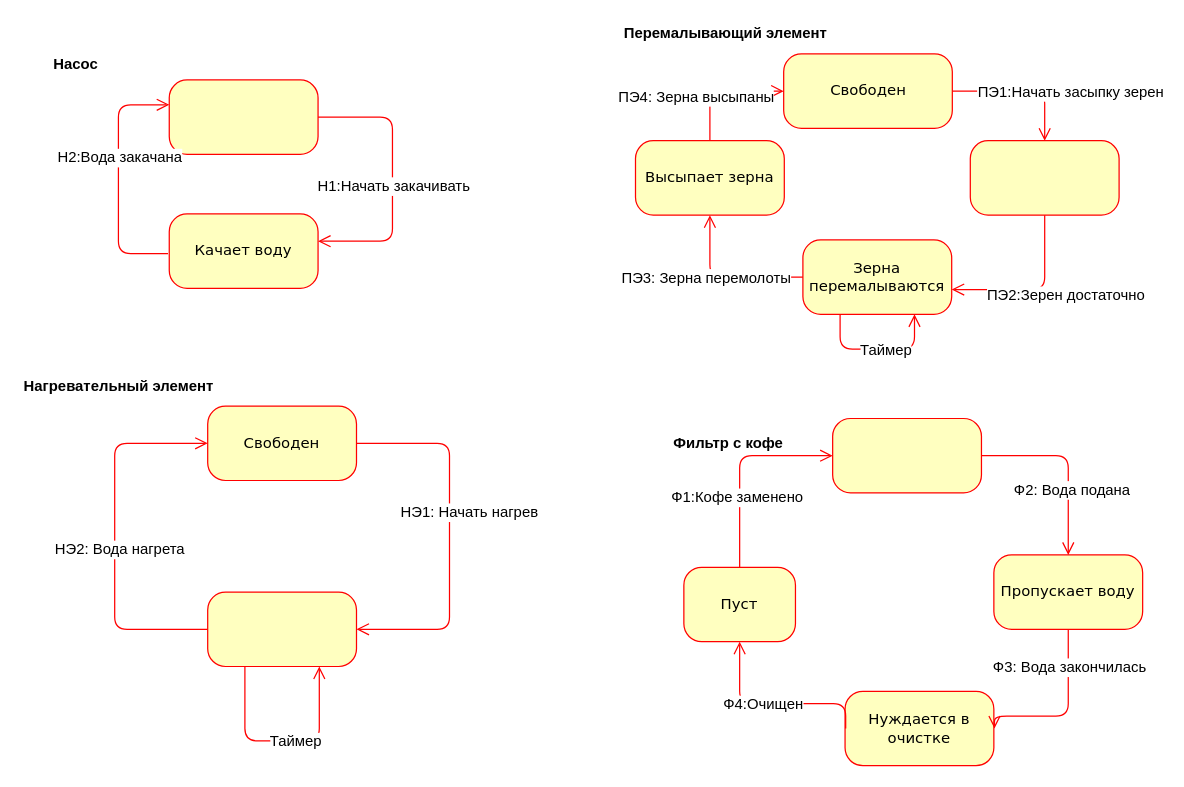
The diagram is 1184 pixels wide and 787 high, and some of its shapes have lost their labels. The centre of each missing label's shape, as x and y in pixels:
"Есть кофе" belongs at pixel 906 455.
"Засыпаются зерна" belongs at pixel 1044 177.
"Нагревается" belongs at pixel 281 628.
"Стоит" belongs at pixel 243 116.
